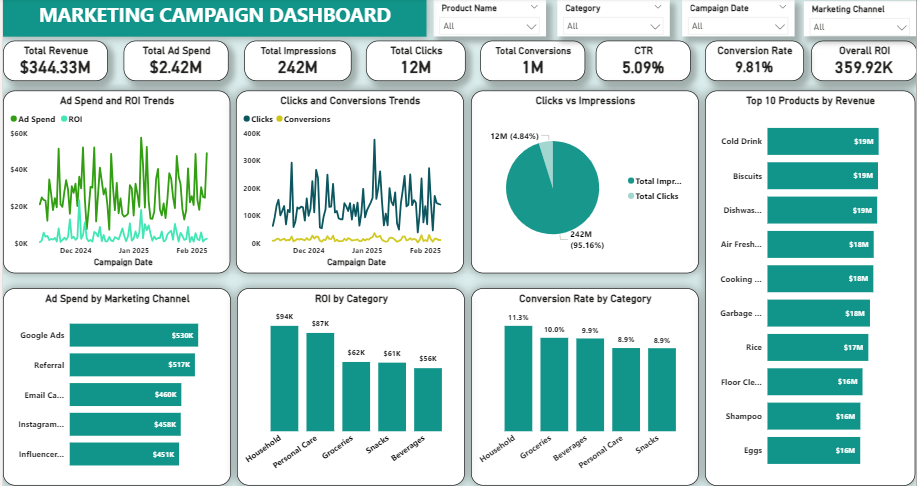

What the dashboard file says about the page in this screenshot:
{"tool":"powerbi","page":{"name":"Dashboard 1","canvas":[1500,800],"ordinal":0},"visuals":[{"type":"barChart","title":"Ad Spend by Marketing Channel","fields":{"Category":["marketing.Marketing Channel"],"Y":["Sum(marketing.Ad Spend (INR))"]},"box":[0,476.3,374,324.4],"z":0},{"type":"slicer","fields":{"Values":["marketing.Product Name"]},"box":[706.8,3.4,184.4,59.8],"z":1000},{"type":"textbox","box":[0,0,694.8,63.2],"z":2000},{"type":"card","title":"Total Revenue","fields":{"Values":["Sum(marketing.Revenue (INR))"]},"box":[0,70,172.4,66.6],"z":3000},{"type":"card","title":"Total Ad Spend","fields":{"Values":["Sum(marketing.Ad Spend (INR))"]},"box":[198,70,172.4,66],"z":4000},{"type":"card","title":"Total Impressions","fields":{"Values":["Sum(marketing.Impressions)"]},"box":[396.1,70,175.8,66],"z":5000},{"type":"card","title":"Total Clicks","fields":{"Values":["Sum(marketing.Clicks)"]},"box":[595.8,70,163.9,66],"z":6000},{"type":"card","title":"Total Conversions","fields":{"Values":["Sum(marketing.Conversions)"]},"box":[783.6,70,172.4,66.6],"z":7000},{"type":"card","title":"Overall ROI","fields":{"Values":["marketing.Overall ROI"]},"box":[1326.5,70,174.1,66],"z":8000},{"type":"slicer","fields":{"Values":["marketing.Category"]},"box":[910,3.4,184.4,59.8],"z":9000},{"type":"slicer","fields":{"Values":["marketing.Campaign Date"]},"box":[1114.8,3.4,184.4,59.8],"z":10000},{"type":"slicer","fields":{"Values":["marketing.Marketing Channel"]},"box":[1314.6,5.1,184.4,58],"z":11000},{"type":"card","title":"Conversion Rate","fields":{"Values":["marketing.Conversion Rate"]},"box":[1152.4,70,162.2,66],"z":12000},{"type":"card","title":"CTR","fields":{"Values":["marketing.CTR"]},"box":[973.1,70,155.4,66.6],"z":13000},{"type":"columnChart","fields":{"Category":["marketing.Category"],"Y":["marketing.Conversion Rate"]},"box":[768.3,476.3,374,324.4],"z":14000},{"type":"lineChart","title":"Ad Spend and ROI Trends","fields":{"Y":["Sum(marketing.Ad Spend (INR))","Sum(marketing.ROI)"],"Category":["marketing.Campaign Date"]},"box":[0,151.9,373,300.5],"z":15000},{"type":"pieChart","title":"Clicks vs Impressions  ","fields":{"Y":["Sum(marketing.Impressions)","Sum(marketing.Clicks)"]},"box":[768.3,151.9,374,300.5],"z":16000},{"type":"barChart","title":"Top 10 Products by Revenue ","fields":{"Category":["marketing.Product Name"],"Y":["Sum(marketing.Revenue (INR))"]},"box":[1152.4,151.9,345,648.8],"z":17000},{"type":"lineClusteredColumnComboChart","title":"ROI by Category","fields":{"Category":["marketing.Category"],"Y":["Sum(marketing.ROI)"]},"box":[384.1,476.3,374,324.4],"z":18000},{"type":"lineChart","title":"Clicks and Conversions  Trends","fields":{"Y":["Sum(marketing.Clicks)","Sum(marketing.Conversions)"],"Category":["marketing.Campaign Date"]},"box":[382.4,151.9,374,300.5],"z":19000}]}

Visuals, with their boxes in screenshot pixels (x1, y1, x2, y2), scaled from the page's 1500x800 canvas onto the 919x486 screenshot:
"Ad Spend by Marketing Channel" barChart: box=[0, 289, 229, 485]
slicer - marketing.Product Name: box=[433, 2, 546, 38]
textbox: box=[0, 0, 426, 38]
"Total Revenue" card: box=[0, 43, 106, 83]
"Total Ad Spend" card: box=[121, 43, 227, 83]
"Total Impressions" card: box=[243, 43, 350, 83]
"Total Clicks" card: box=[365, 43, 465, 83]
"Total Conversions" card: box=[480, 43, 586, 83]
"Overall ROI" card: box=[813, 43, 918, 83]
slicer - marketing.Category: box=[558, 2, 671, 38]
slicer - marketing.Campaign Date: box=[683, 2, 796, 38]
slicer - marketing.Marketing Channel: box=[805, 3, 918, 38]
"Conversion Rate" card: box=[706, 43, 805, 83]
"CTR" card: box=[596, 43, 691, 83]
columnChart - marketing.Category x marketing.Conversion Rate: box=[471, 289, 700, 485]
"Ad Spend and ROI Trends" lineChart: box=[0, 92, 229, 275]
"Clicks vs Impressions  " pieChart: box=[471, 92, 700, 275]
"Top 10 Products by Revenue " barChart: box=[706, 92, 917, 485]
"ROI by Category" lineClusteredColumnComboChart: box=[235, 289, 464, 485]
"Clicks and Conversions  Trends" lineChart: box=[234, 92, 463, 275]
